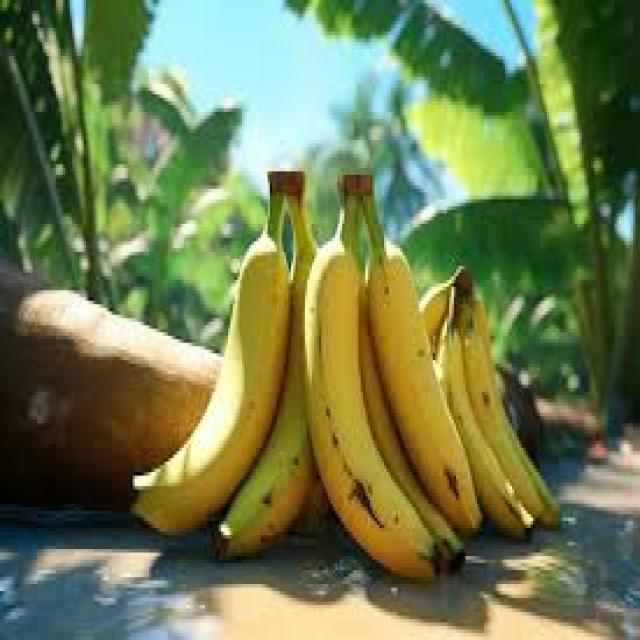Banana: (130, 169, 322, 566), (305, 173, 484, 579), (420, 260, 562, 534)
